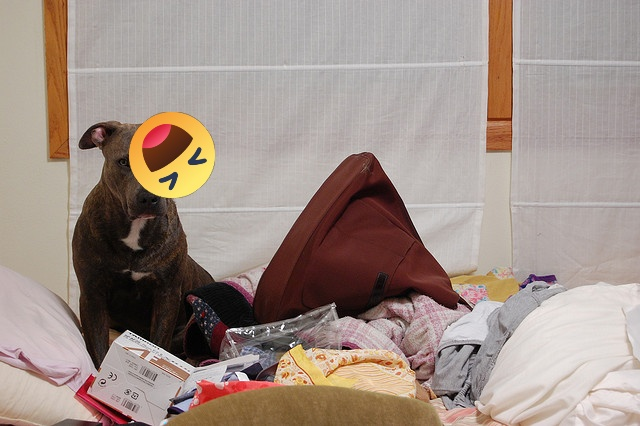haha: (129, 112, 215, 198)
